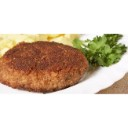cutlet: (2, 44, 87, 89)
